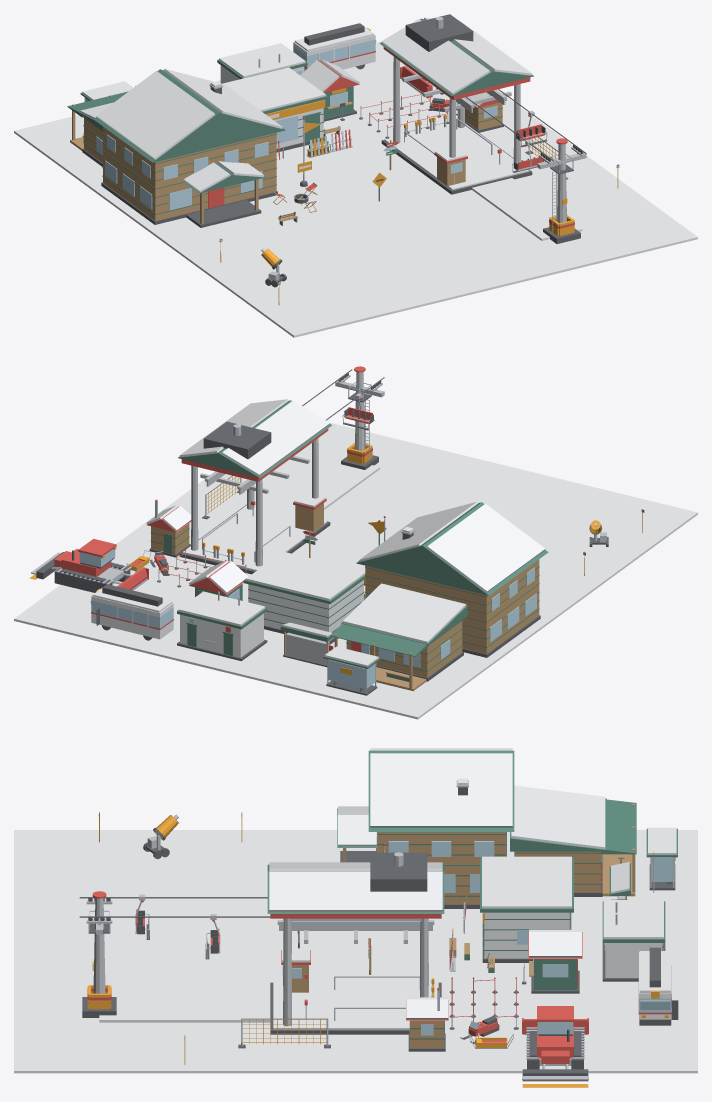
The model's file is ski_station.glb.
The picture shows the model from 3 angles, top to bottom: view 1: azimuth 30°, elevation 25°; view 2: azimuth 150°, elevation 25°; view 3: azimuth 270°, elevation 25°; orthographic projection. The views are drawn at different scales.
Parts seen in each view (by area): view 1: 042-lodge-hall/3, 030-lift-bottom-station/1, 042-lodge-hall/1, 042-lodge-hall/2, 005-piste-tile/0, 011-piste-tile/0, 017-piste-tile/0, 029-piste-tile/0, 010-piste-tile/0, 016-piste-tile/0, 015-piste-tile/0, 003-piste-tile/0 (+38 smaller); view 2: 030-lift-bottom-station/1, 042-lodge-hall/3, 044-rental-shop-front/1, 042-lodge-hall/1, 043-lodge-wing/3, 042-lodge-hall/2, 011-piste-tile/0, 017-piste-tile/0, 005-piste-tile/0, 049-toilet-block/1, 004-piste-tile/0, 030-lift-bottom-station/2 (+43 smaller); view 3: 030-lift-bottom-station/1, 042-lodge-hall/3, 044-rental-shop-front/1, 029-piste-tile/0, 028-piste-tile/0, 024-piste-tile/0, 005-piste-tile/0, 010-piste-tile/0, 016-piste-tile/0, 004-piste-tile/0, 011-piste-tile/0, 017-piste-tile/0 (+49 smaller).
Boxes of the visible parts, x1,y1,x2,y2 form: 042-lodge-hall/3: (96,69,282,192); 030-lift-bottom-station/1: (381,17,532,190); 042-lodge-hall/1: (103,127,276,224); 042-lodge-hall/2: (93,69,285,214); 005-piste-tile/0: (247,282,374,337); 011-piste-tile/0: (328,262,455,317); 017-piste-tile/0: (409,242,536,298); 029-piste-tile/0: (575,203,697,258); 010-piste-tile/0: (282,228,408,281); 016-piste-tile/0: (363,208,489,261); 015-piste-tile/0: (317,174,442,227); 003-piste-tile/0: (154,218,280,269); 030-lift-bottom-station/1: (179,399,329,570); 042-lodge-hall/3: (359,502,545,592); 044-rental-shop-front/1: (246,551,365,640); 042-lodge-hall/1: (365,559,539,653); 043-lodge-wing/3: (342,583,466,643); 042-lodge-hall/2: (356,502,548,647); 011-piste-tile/0: (490,473,616,526); 017-piste-tile/0: (409,453,535,506); 005-piste-tile/0: (571,493,697,548); 049-toilet-block/1: (178,591,265,657); 004-piste-tile/0: (539,527,651,582); 030-lift-bottom-station/2: (191,424,318,566); 030-lift-bottom-station/1: (269,862,442,1029); 042-lodge-hall/3: (338,748,512,846); 044-rental-shop-front/1: (482,856,571,958); 029-piste-tile/0: (14,1022,127,1073); 028-piste-tile/0: (128,1022,241,1073); 024-piste-tile/0: (584,1022,697,1073); 005-piste-tile/0: (14,830,127,878); 010-piste-tile/0: (128,878,241,926); 016-piste-tile/0: (128,926,241,974); 004-piste-tile/0: (128,830,241,878); 011-piste-tile/0: (14,878,127,926); 017-piste-tile/0: (14,926,127,974).
Bounding box in the file's own units: 42.9 × 12.3 × 48.
